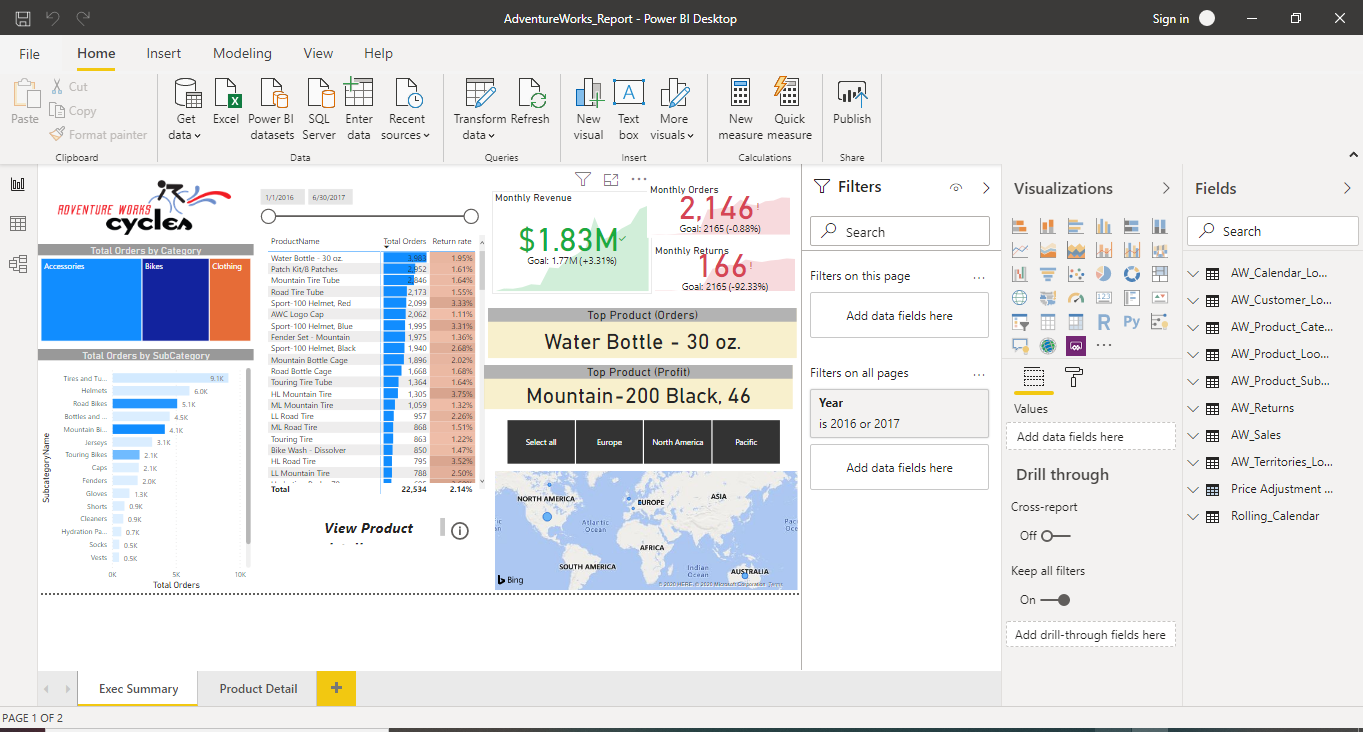

Layout of this report page (visuals, bound fields, positions):
{"tool":"powerbi","page":{"name":"Exec Summary","canvas":[1280,720],"ordinal":0},"visuals":[{"type":"image","box":[8.4,21.8,343.9,102.3],"z":0},{"type":"barChart","title":"Total Orders by SubCategory","fields":{"Y":["AW_Sales.Total Orders"],"Category":["AW_Product_Subcategory_Lookup.SubcategoryName"]},"box":[0,310.4,362.4,409.3],"z":1000},{"type":"treemap","title":"Total Orders by Category","fields":{"Group":["AW_Product_Category_Lookup.CategoryName","AW_Product_Subcategory_Lookup.SubcategoryName"],"Values":["AW_Sales.Total Orders"]},"box":[0,134.2,362.4,167.8],"z":2000},{"type":"pivotTable","fields":{"Values":["AW_Sales.Total Orders","AW_Returns.Return rate"],"Rows":["AW_Product_Category_Lookup.CategoryName","AW_Product_Subcategory_Lookup.SubcategoryName","AW_Product_Lookup.ProductName"]},"box":[380.8,114.1,374.1,444.6],"z":3000},{"type":"slicer","fields":{"Values":["AW_Calendar_Lookup.Date"]},"box":[360.7,31.9,389.2,83.9],"z":4000},{"type":"kpi","title":"Monthly Revenue","fields":{"Indicator":["AW_Sales.Total Revenue"],"TrendLine":["AW_Calendar_Lookup.Start of Month"],"Goal":["AW_Sales.Prev Month Revenue"]},"box":[761.6,45.3,268.4,172.8],"z":5000},{"type":"kpi","title":"Monthly Orders","fields":{"TrendLine":["AW_Calendar_Lookup.Start of Month"],"Indicator":["AW_Sales.Total Orders"],"Goal":["AW_Sales.Prev Month Orders"]},"box":[1021.7,31.9,244.9,92.3],"z":6000},{"type":"card","title":"Top Product (Orders)","fields":{"Values":["Min(AW_Product_Lookup.ProductName)"]},"box":[754.9,241.6,518.4,83.9],"z":7000},{"type":"card","title":"Top Product (Profit)","fields":{"Values":["Min(AW_Product_Lookup.ProductName)"]},"box":[748.2,337.2,518.4,73.8],"z":8000},{"type":"map","fields":{"Category":["AW_Territories_Lookup.Country"],"Size":["AW_Sales.Total Orders"]},"box":[761.6,510,518.4,209.7],"z":9000},{"type":"slicer","fields":{"Values":["AW_Territories_Lookup.Continent"]},"box":[761.6,422.8,506.6,87.2],"z":10000},{"type":"kpi","title":"Monthly Returns","fields":{"Goal":["AW_Sales.Prev Month Orders"],"Indicator":["AW_Returns.Total Returns"],"TrendLine":["AW_Calendar_Lookup.Start of Month"]},"box":[1030,134.2,244.9,83.9],"z":11000},{"type":"textbox","box":[474.8,588.8,213.1,53.7],"z":12000},{"type":"actionButton","box":[687.8,595.5,43.6,40.3],"z":13000}]}

Visuals, with their boxes on the page's 1280x720 design canvas (x1, y1, x2, y2). These are canvas units, not pixel positions in the 1363x732 screenshot, which may show the page scaled, cropped or inside an application window:
image: 8/22/352/124
"Total Orders by SubCategory" barChart: 0/310/362/720
"Total Orders by Category" treemap: 0/134/362/302
pivotTable - AW_Sales.Total Orders x AW_Returns.Return rate: 381/114/755/559
slicer - AW_Calendar_Lookup.Date: 361/32/750/116
"Monthly Revenue" kpi: 762/45/1030/218
"Monthly Orders" kpi: 1022/32/1267/124
"Top Product (Orders)" card: 755/242/1273/326
"Top Product (Profit)" card: 748/337/1267/411
map - AW_Territories_Lookup.Country x AW_Sales.Total Orders: 762/510/1280/720
slicer - AW_Territories_Lookup.Continent: 762/423/1268/510
"Monthly Returns" kpi: 1030/134/1275/218
textbox: 475/589/688/642
actionButton: 688/596/731/636
